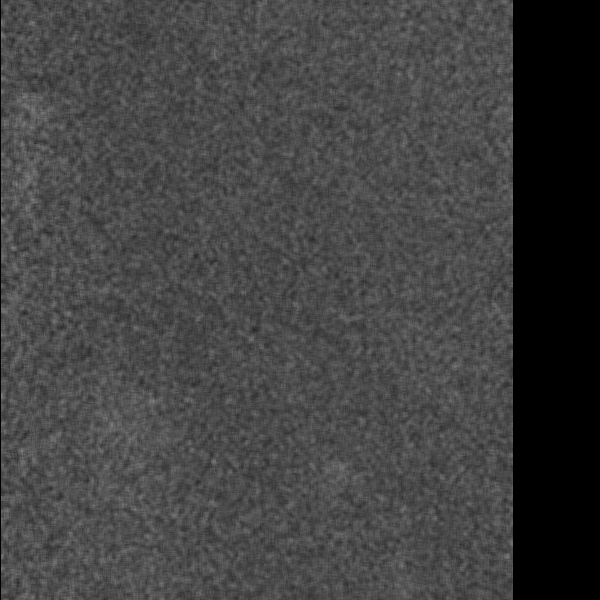spark: (17, 92, 39, 103)
